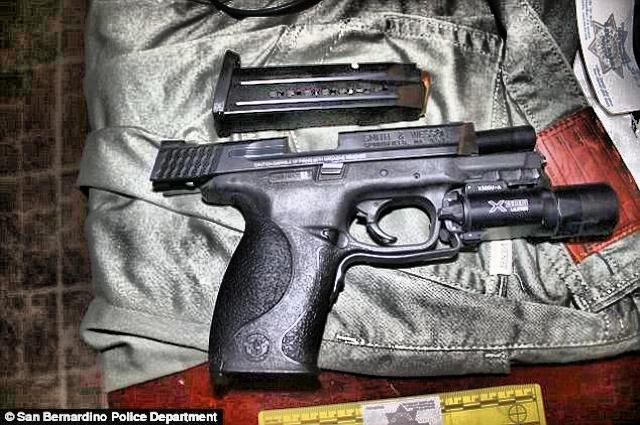pistol: (156, 126, 618, 380)
